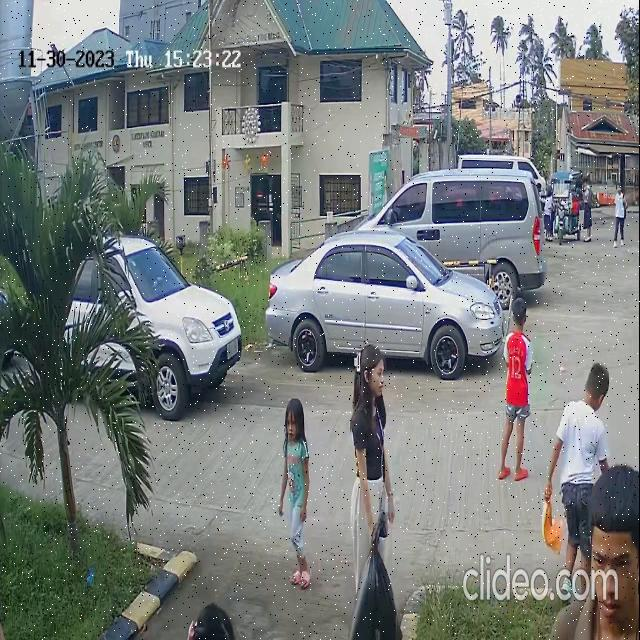human: (544, 476, 640, 640), (271, 395, 321, 593), (562, 362, 602, 600), (346, 342, 388, 547), (495, 298, 531, 488), (184, 593, 241, 640)
trash: (351, 521, 406, 640), (539, 498, 568, 562)
